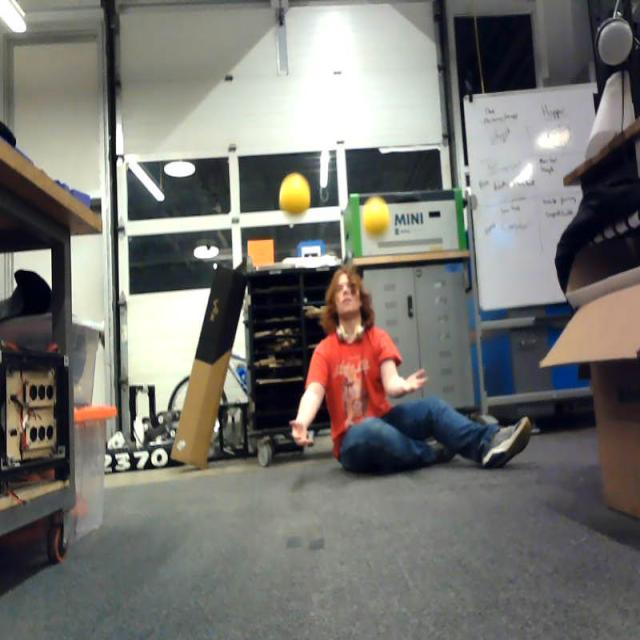Fuel: (280, 174, 310, 213), (364, 202, 390, 236)
